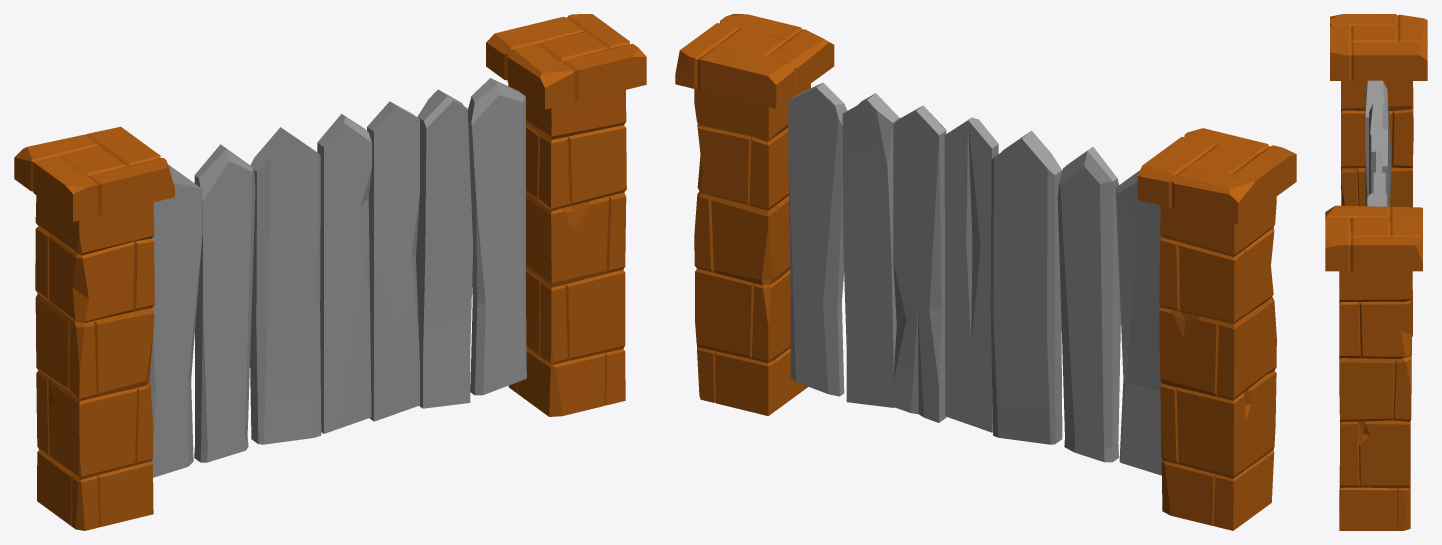
File: Fence_6_1.fbx
The picture shows the model from 3 angles, left to right: view 1: azimuth 30°, elevation 25°; view 2: azimuth 150°, elevation 25°; view 3: azimuth 270°, elevation 25°; orthographic projection. The views are drawn at different scales.
Visible parts, largest first — view 1: Fence_6_1; view 2: Fence_6_1; view 3: Fence_6_1.
Part boxes in pixels (box(x1,y1,x2,y2)): Fence_6_1: box(14, 14, 646, 530); Fence_6_1: box(675, 14, 1296, 530); Fence_6_1: box(1325, 14, 1427, 530).
Bounding box in the file's own units: 59.9 × 35.1 × 11.19.
